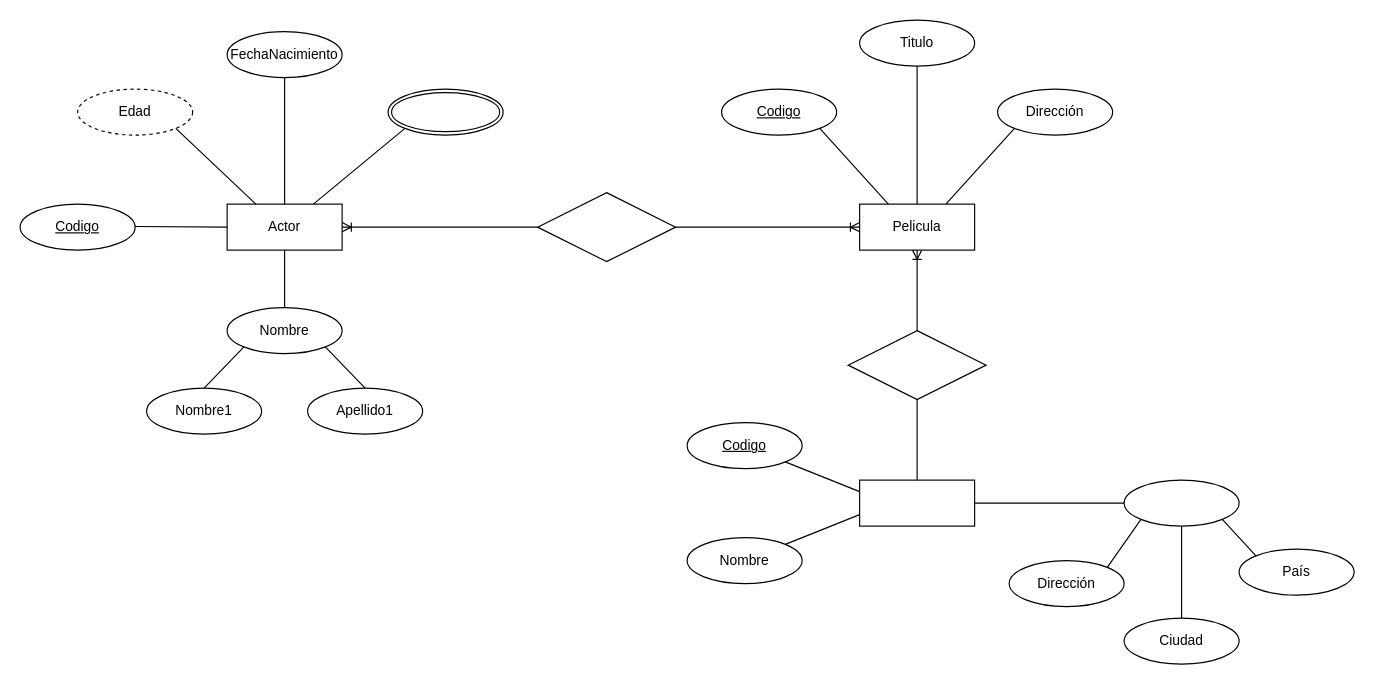
The diagram is 1374 pixels wide and 684 high, and some of its shapes have lost their labels. Here are the shapes that lost their labels. From the top down, the centre of each, then its label:
At (x=445, y=111): "Telefono".
At (x=606, y=226): "Actúa".
At (x=916, y=364): "Produce".
At (x=916, y=502): "Estudio".
At (x=1181, y=502): "Domicilio".
